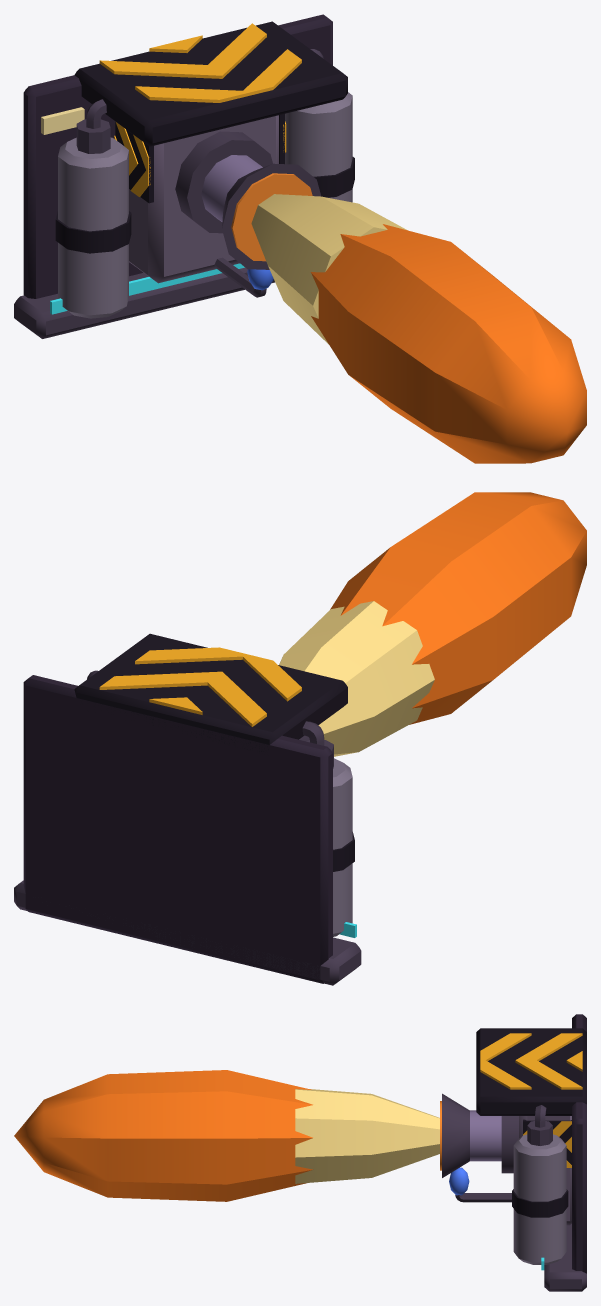
Rendered from trap_flame__lower.glb.
3 views of the same model, one above another, from view 1: azimuth 30°, elevation 25°; view 2: azimuth 150°, elevation 25°; view 3: azimuth 270°, elevation 25° (orthographic). The views are drawn at different scales.
Parts seen in each view (by area): view 1: Body, Jet, Nozzle; view 2: Body, Jet; view 3: Jet, Body, Nozzle, Pilot.
Part boxes in pixels (x1,y1,x2,y2): Body: (14, 14, 354, 338); Jet: (251, 194, 586, 463); Nozzle: (175, 131, 321, 269); Body: (14, 633, 361, 985); Jet: (279, 492, 586, 756); Jet: (14, 1070, 439, 1201); Body: (455, 1014, 586, 1291); Nozzle: (440, 1093, 518, 1177); Pilot: (449, 1167, 469, 1195).
Bounding box in the file's own units: 0.64 × 0.456 × 1.35.
